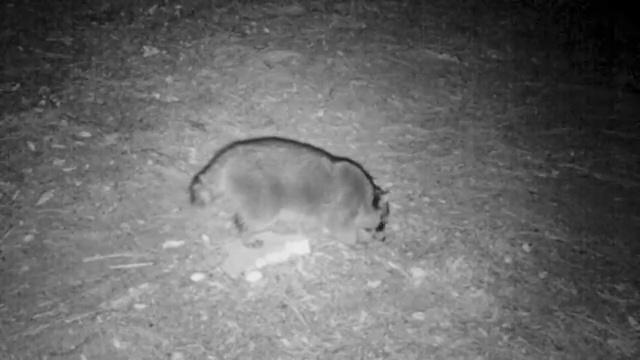raccoon: (186, 129, 395, 261)
